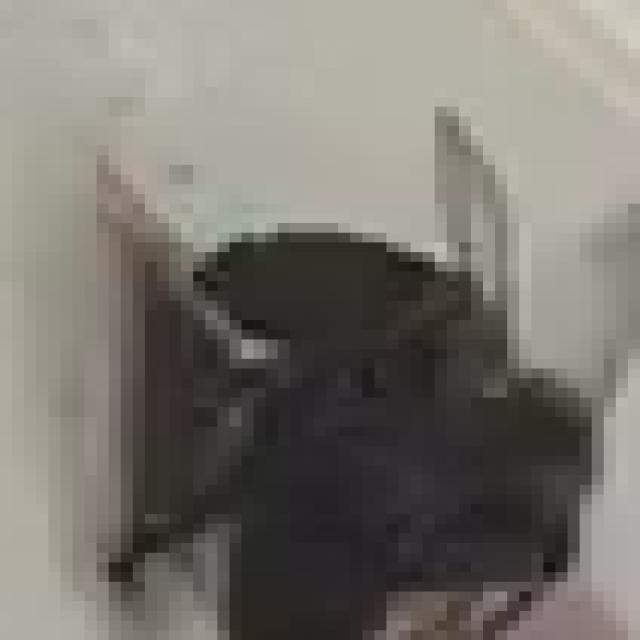honeybee: (90, 88, 640, 640)
